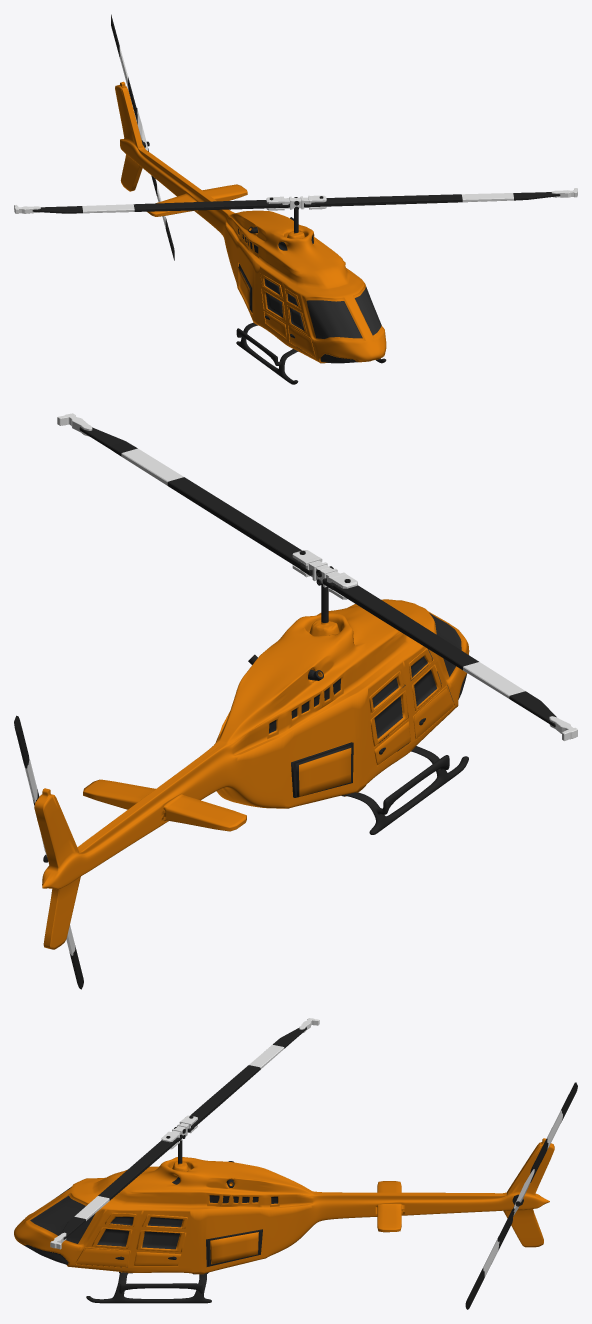
The model's file is Heli_belld.fbx.
The picture shows the model from 3 angles, top to bottom: view 1: azimuth 30°, elevation 25°; view 2: azimuth 150°, elevation 25°; view 3: azimuth 270°, elevation 25°; orthographic projection. The views are drawn at different scales.
Visible parts, largest first — view 1: body_helicopter, baling baling_1, baling-baling_2; view 2: body_helicopter, baling baling_1, baling-baling_2; view 3: body_helicopter, baling baling_1, baling-baling_2.
Part boxes in pixels (x1,y1,x2,y2): body_helicopter: (115, 81, 386, 384); baling baling_1: (14, 188, 577, 213); baling-baling_2: (111, 14, 174, 260); body_helicopter: (34, 584, 469, 949); baling baling_1: (57, 413, 577, 740); baling-baling_2: (14, 715, 83, 989); body_helicopter: (14, 1138, 554, 1303); baling baling_1: (50, 1018, 319, 1249); baling-baling_2: (465, 1082, 577, 1309).
Size of the model in its own units: 1787 by 815 by 1878.
